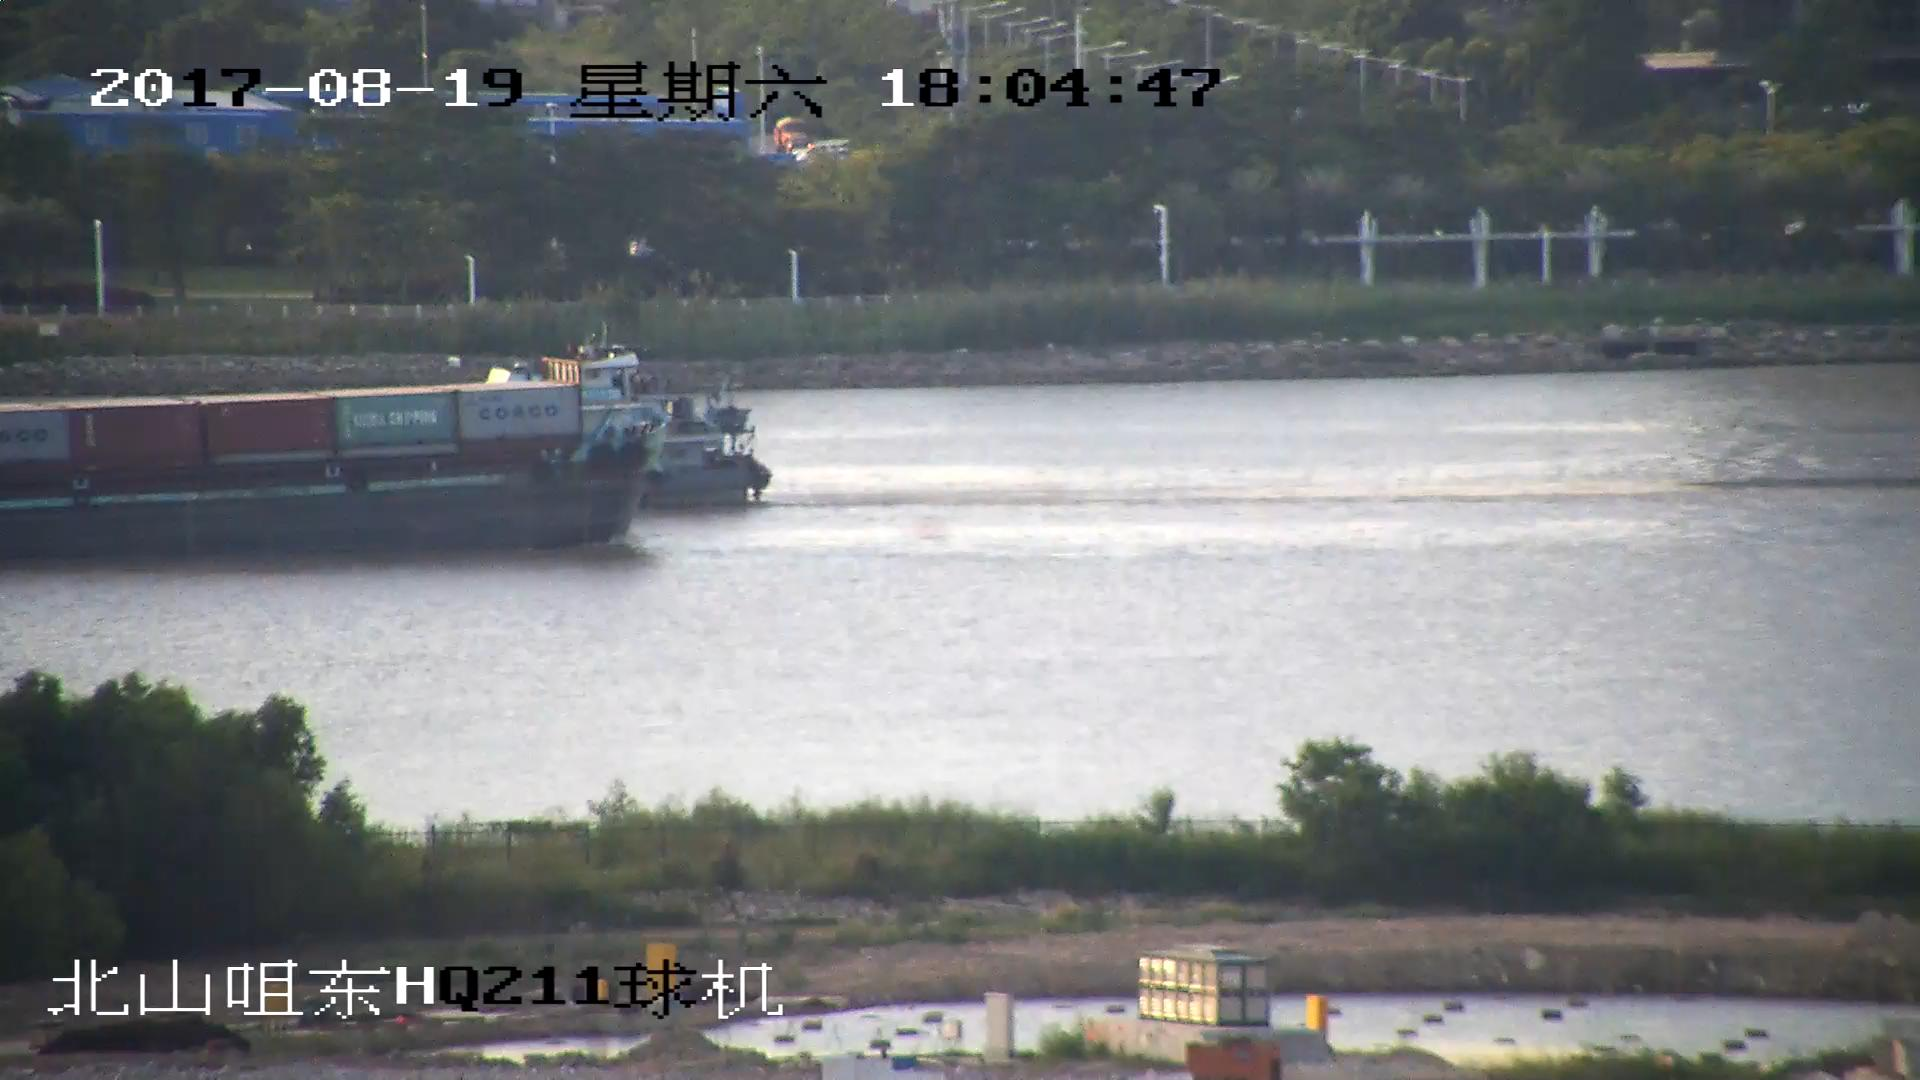container ship: (1, 365, 664, 559)
